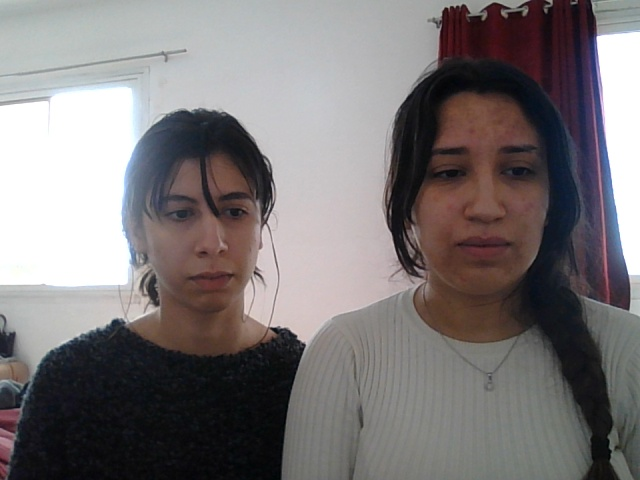without_mask: (418, 135, 545, 272), (154, 189, 265, 295)
